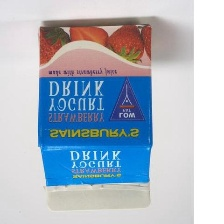carton: (34, 16, 161, 215)
